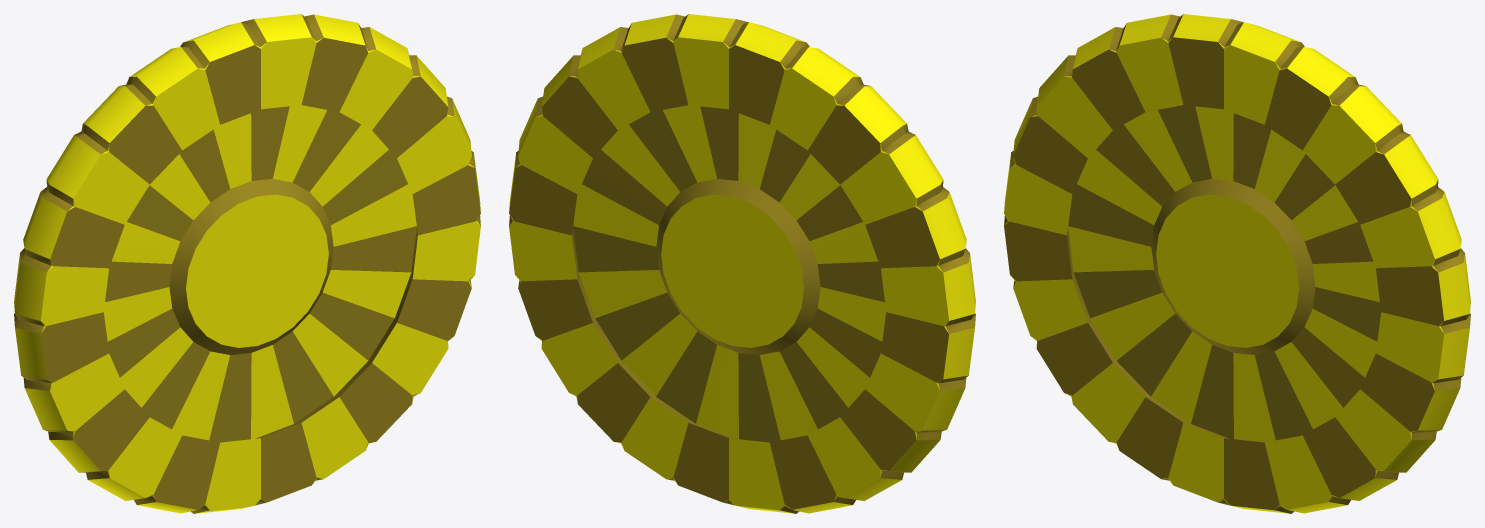
3 views of the same model, side by side, from view 1: azimuth 30°, elevation 25°; view 2: azimuth 150°, elevation 25°; view 3: azimuth 330°, elevation 25° (orthographic).
Parts seen in each view (by area): view 1: 柱体; view 2: 柱体; view 3: 柱体.
Boxes of the visible parts, x1,y1,x2,y2 form: 柱体: (14, 14, 480, 513); 柱体: (509, 14, 975, 513); 柱体: (1004, 14, 1470, 513).
Bounding box in the file's own units: 199 × 199 × 19.9.
